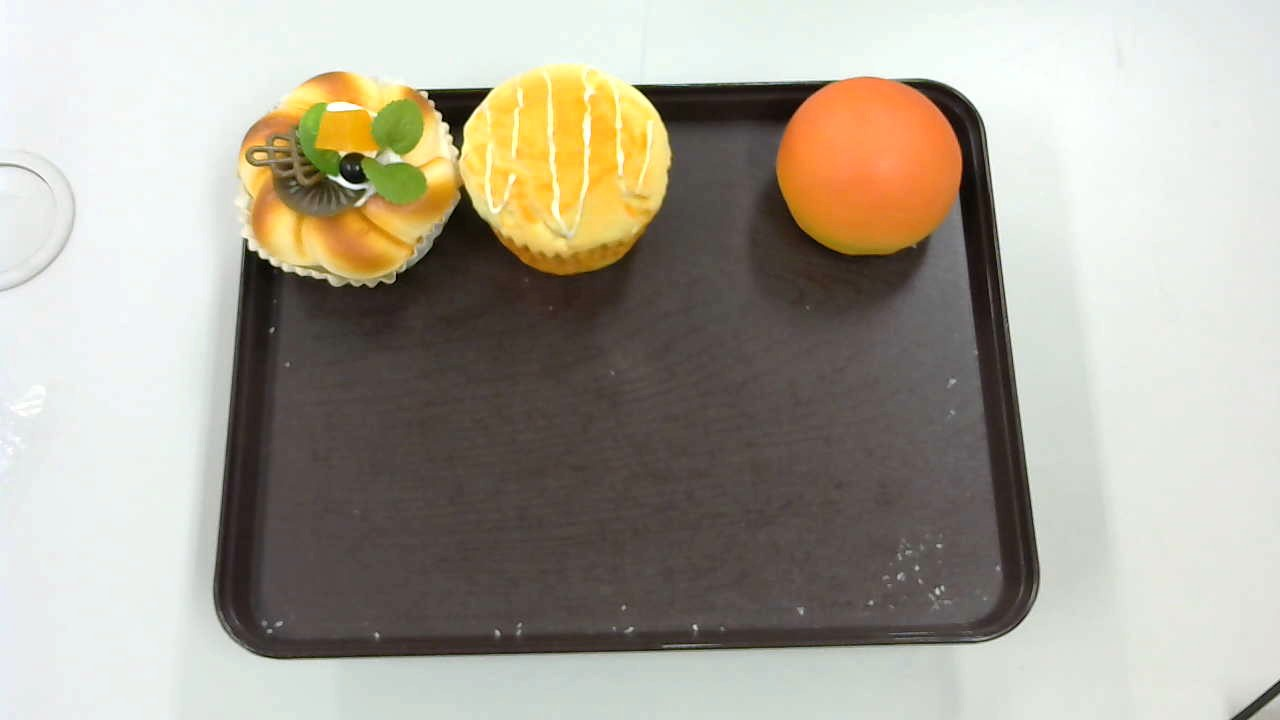bun: (773, 77, 962, 255)
cupcake: (461, 64, 671, 276)
fruit tart: (234, 70, 461, 287)
